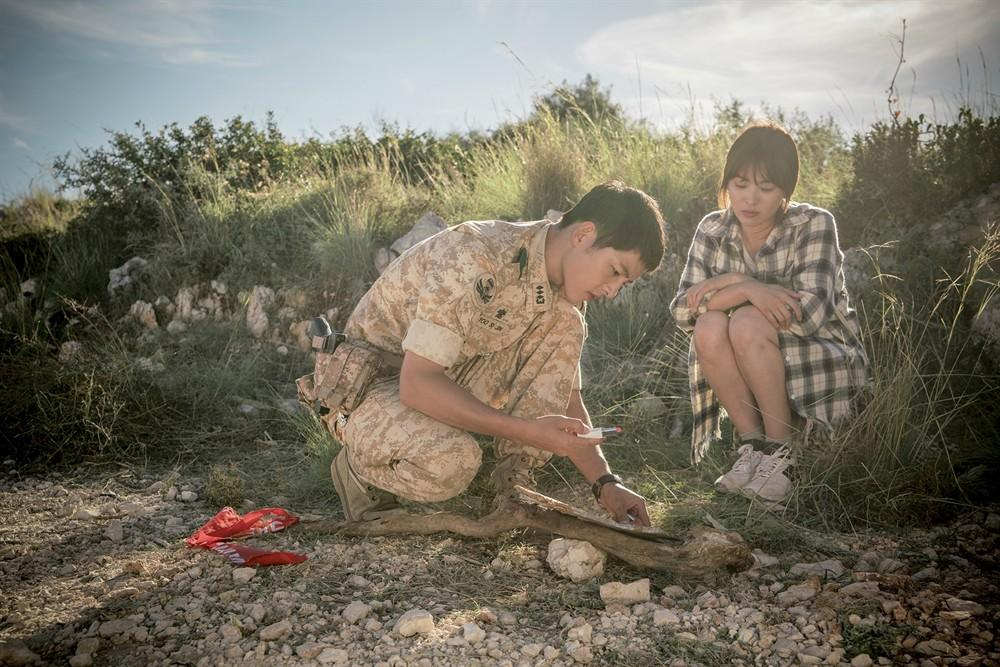bending: (296, 174, 670, 539), (669, 120, 882, 504)
